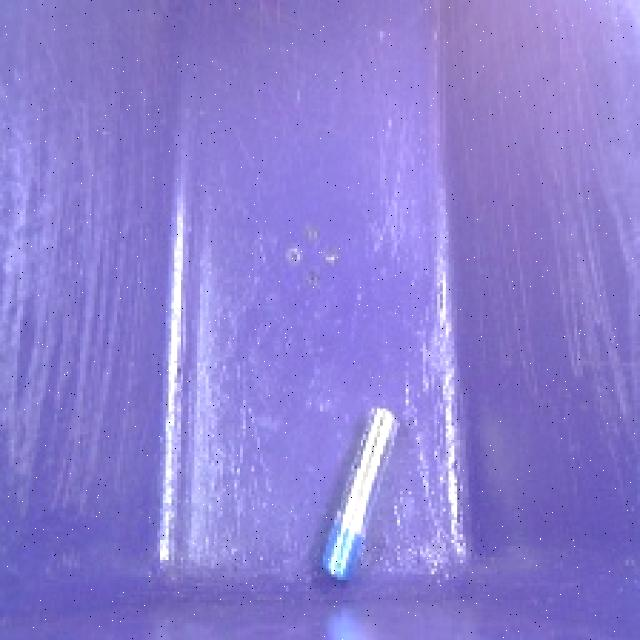brick: (306, 396, 404, 596)
